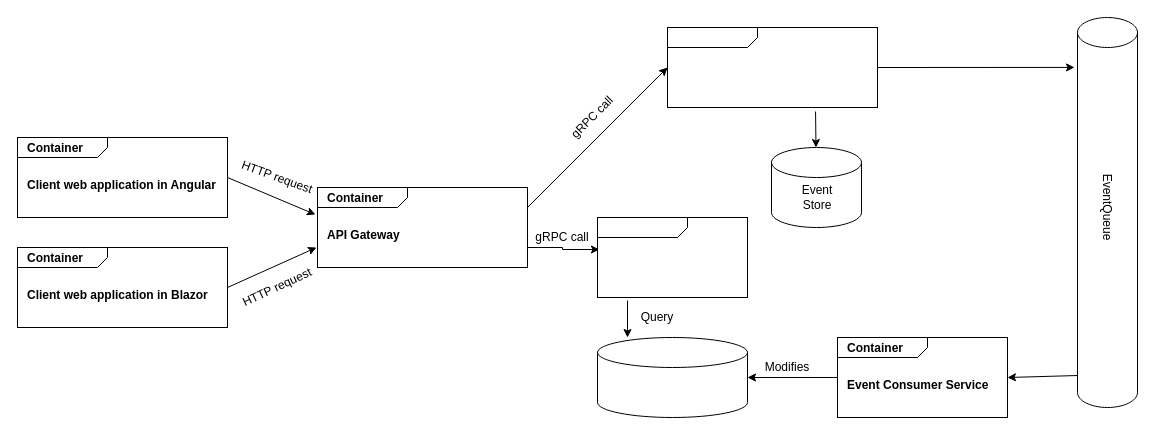
Some shapes in this 1155 by 435 pixel diagram are drawn without their labels. Here are the shapes that lost their labels. From the top down, the box of each, then its label:
(666, 26, 878, 108): Container Payment microservice
(596, 216, 748, 298): Container Catalog microservice
(596, 336, 748, 418): SQL Server database
